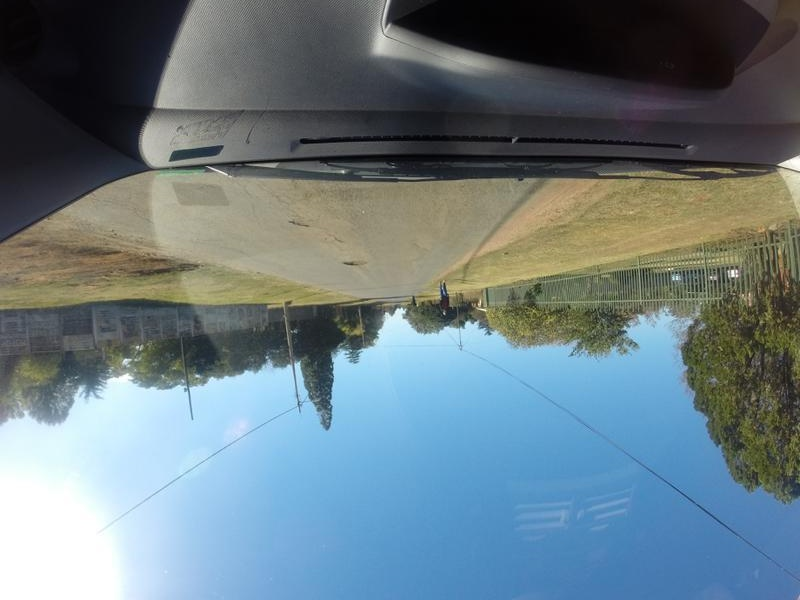pothole: (62, 238, 120, 260), (123, 259, 187, 276), (278, 211, 310, 236), (338, 256, 367, 270)
